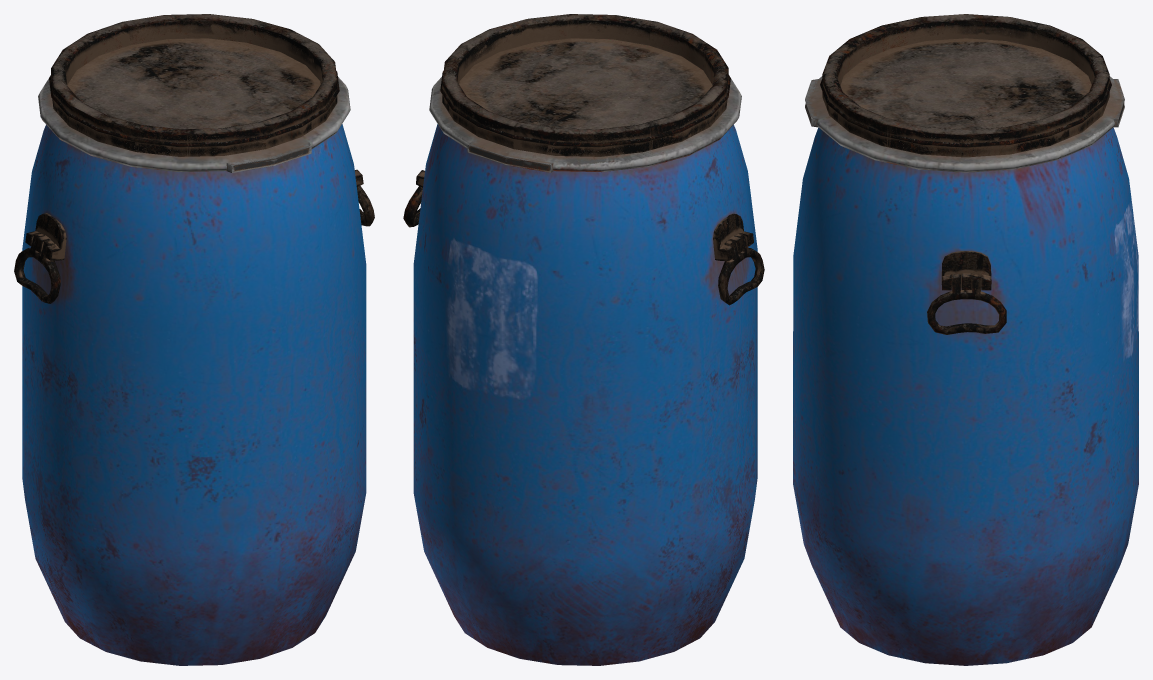
The model's file is plastic_barrel.glb.
The picture shows the model from 3 angles, left to right: view 1: azimuth 30°, elevation 25°; view 2: azimuth 150°, elevation 25°; view 3: azimuth 270°, elevation 25°; orthographic projection.
Parts seen in each view (by area): view 1: botle_low, tap_low, ring_low, ll_low, l_low; view 2: botle_low, tap_low, ring_low, ll_low, l_low; view 3: botle_low, tap_low, ring_low, rr_low, r_low.
Boxes of the visible parts, x1=… form: botle_low: x1=22, y1=124, x2=366, y2=665; tap_low: x1=49, y1=14, x2=339, y2=156; ring_low: x1=38, y1=77, x2=350, y2=172; ll_low: x1=14, y1=233, x2=60, y2=303; l_low: x1=25, y1=213, x2=66, y2=260; botle_low: x1=413, y1=124, x2=757, y2=665; tap_low: x1=440, y1=14, x2=730, y2=156; ring_low: x1=429, y1=77, x2=741, y2=172; ll_low: x1=718, y1=233, x2=764, y2=305; l_low: x1=713, y1=213, x2=753, y2=260; botle_low: x1=793, y1=127, x2=1138, y2=665; tap_low: x1=820, y1=14, x2=1111, y2=157; ring_low: x1=805, y1=76, x2=1124, y2=172; rr_low: x1=927, y1=273, x2=1006, y2=334; r_low: x1=941, y1=250, x2=991, y2=290.
Size of the model in its own units: 87.41 by 137 by 80.08.
1 material, 1 textured.
